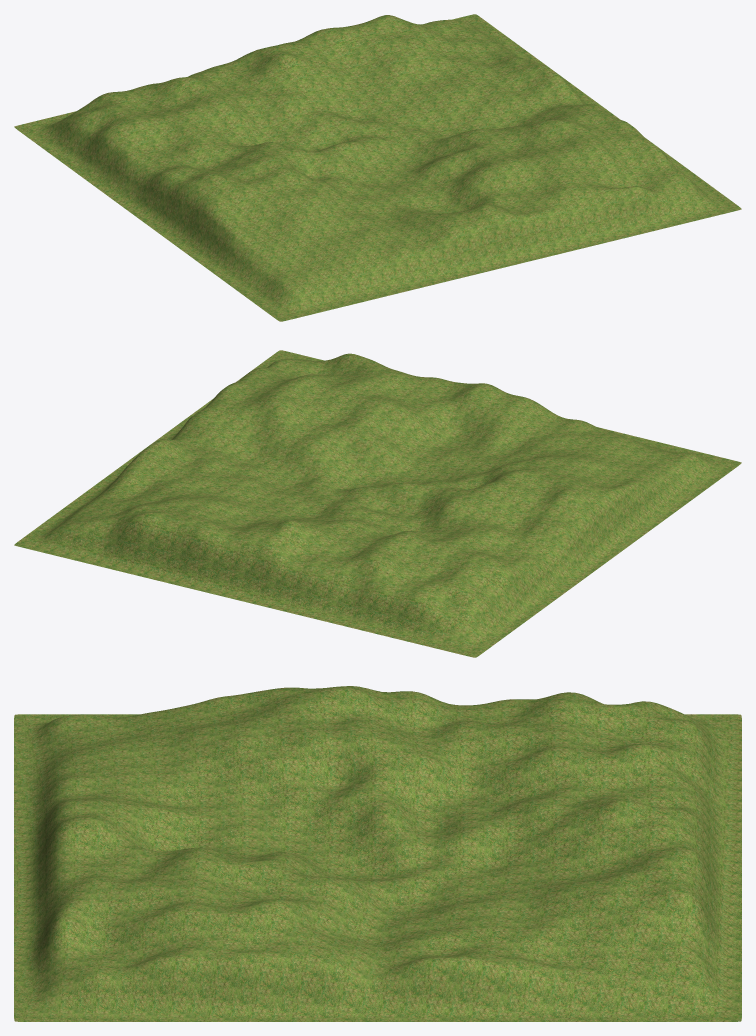
The model's file is terrain-grass.dae.
The picture shows the model from 3 angles, top to bottom: view 1: azimuth 30°, elevation 25°; view 2: azimuth 150°, elevation 25°; view 3: azimuth 270°, elevation 25°; orthographic projection. The views are drawn at different scales.
Parts seen in each view (by area): view 1: Grid; view 2: Grid; view 3: Grid.
Boxes of the visible parts, bbox=[...] form: Grid: bbox=[14, 14, 741, 321]; Grid: bbox=[14, 350, 741, 657]; Grid: bbox=[14, 686, 741, 1021].
Bounding box in the file's own units: 19.75 × 19.75 × 1.94.
1 material, 1 textured.
